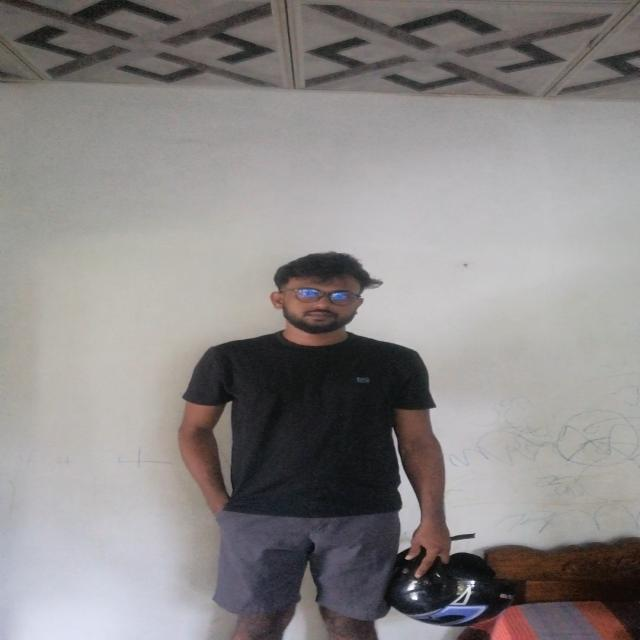Person: (179, 252, 443, 635)
